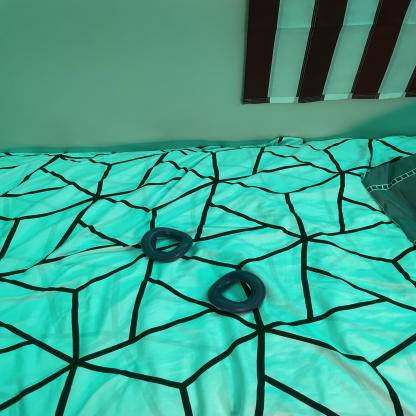ring: (206, 270, 266, 313), (140, 226, 193, 263)
